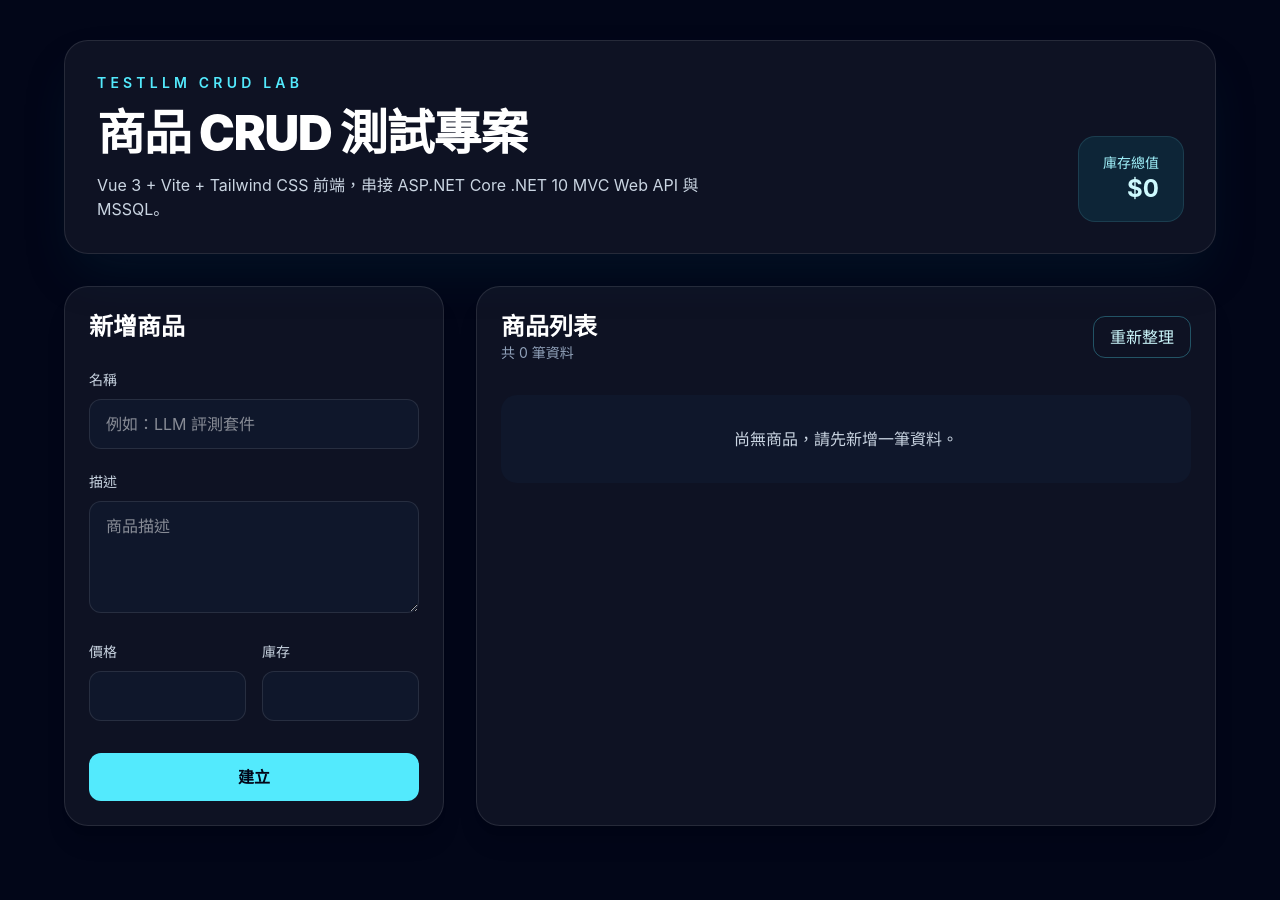
Scenario: App › creates a product with trimmed values and refreshes the list
Type "  新商品  " into the field with placeholder "例如：LLM 評測套件". click: {"x": 254, "y": 424}
box: [89,399,419,449]
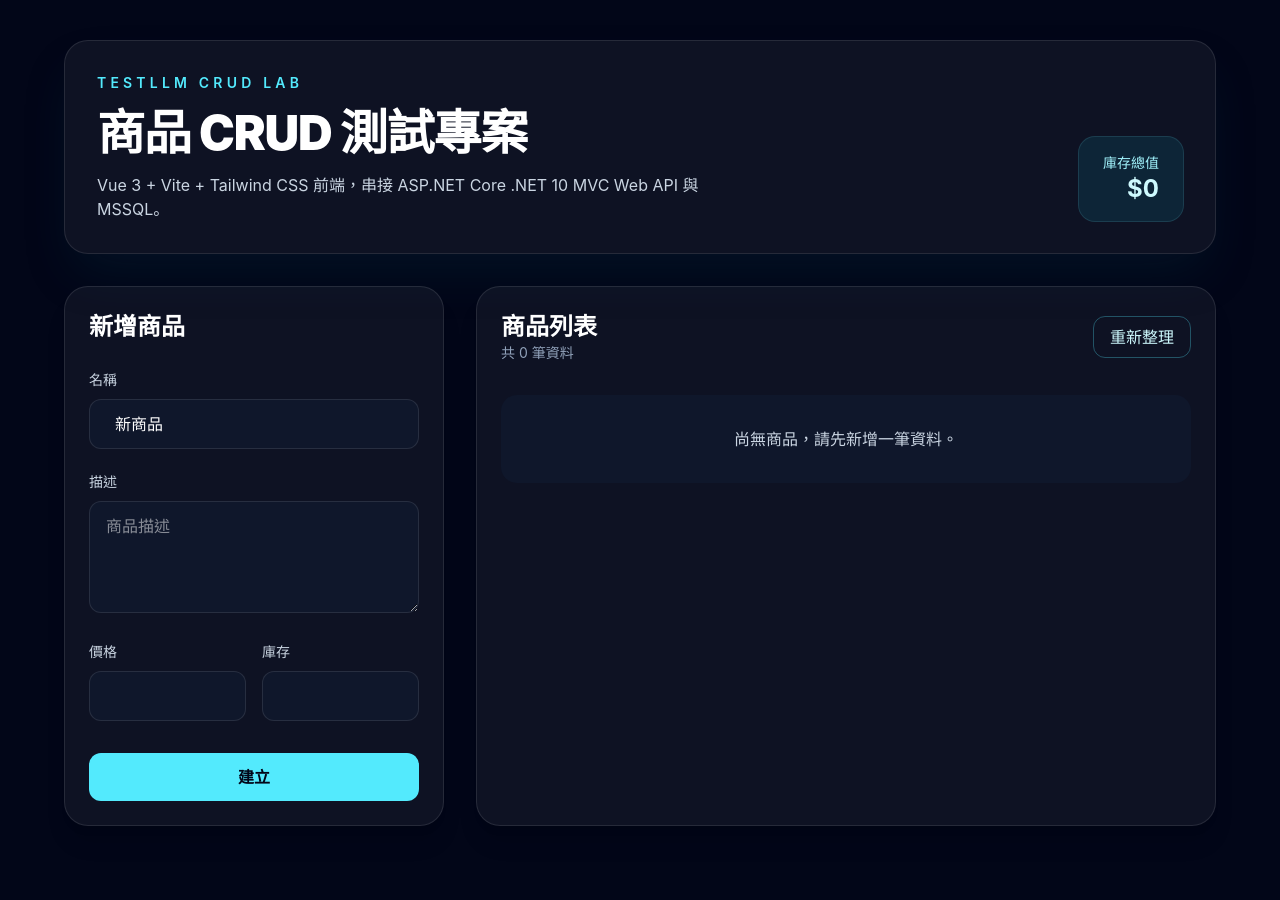
Type "  建立成功  " into the text box labelled "描述". click: {"x": 254, "y": 557}
box: [89,501,419,613]
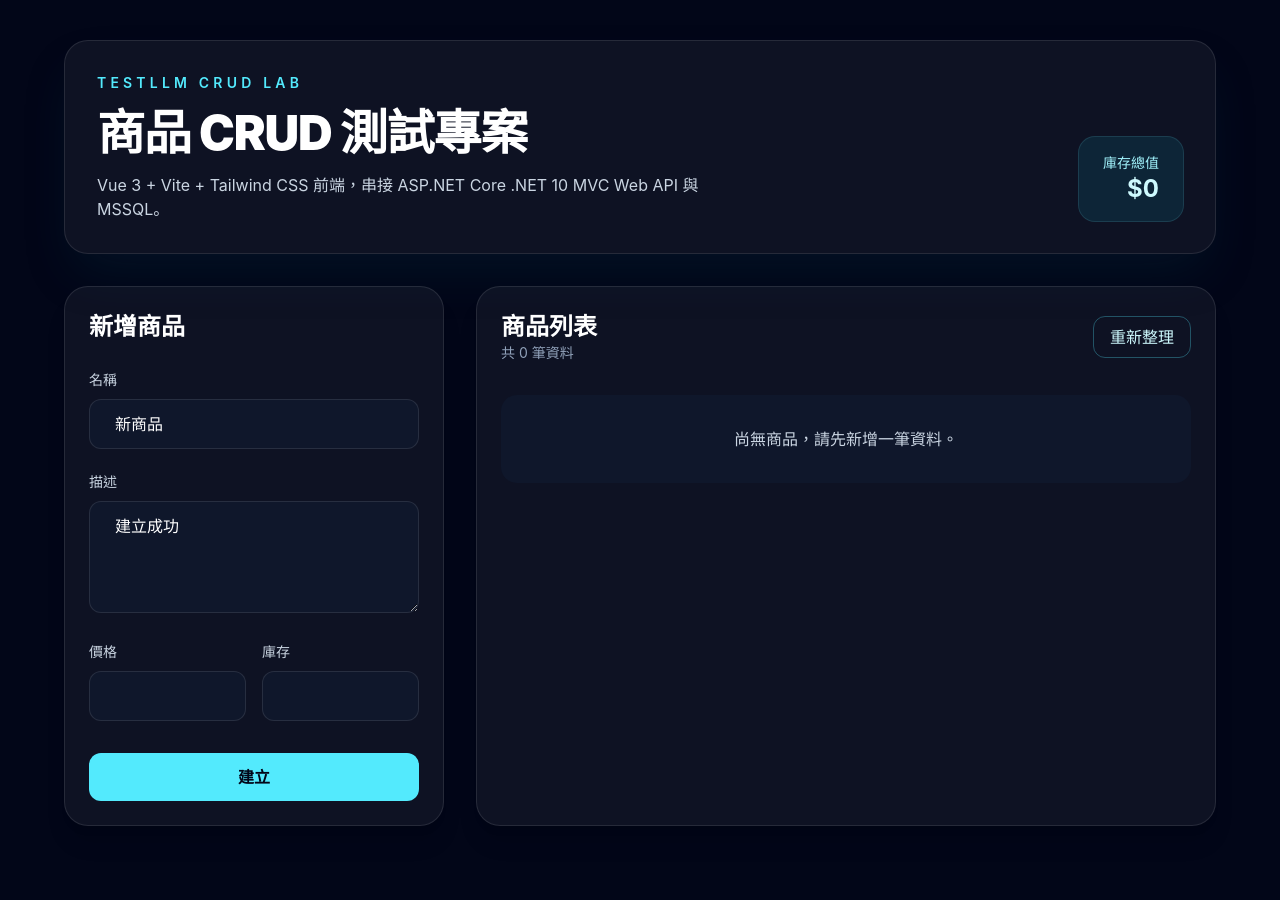
Type "900" into the number field labelled "價格". click: {"x": 168, "y": 696}
box: [89,671,246,721]
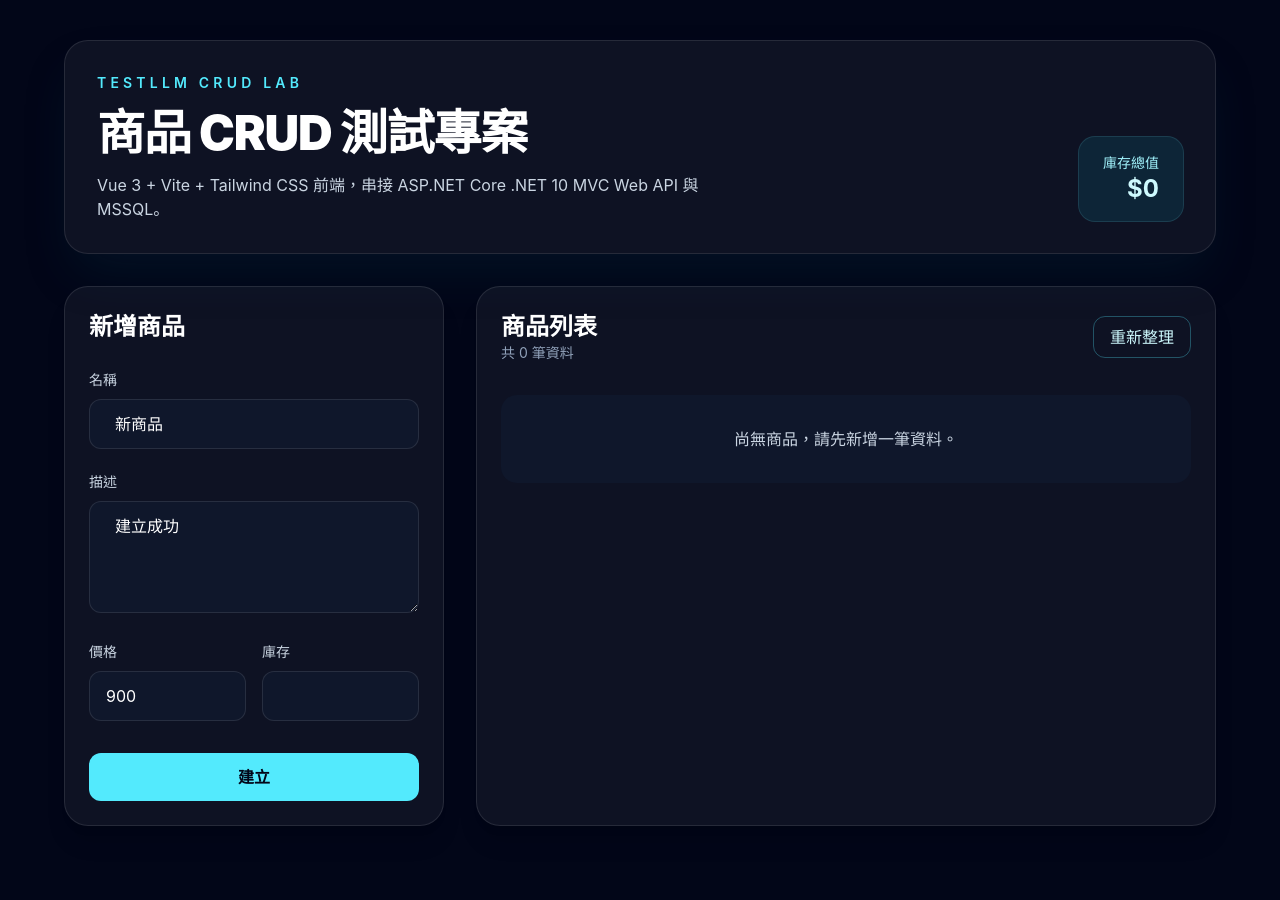
Type "4" into the number field labelled "庫存". click: {"x": 340, "y": 696}
box: [262,671,419,721]
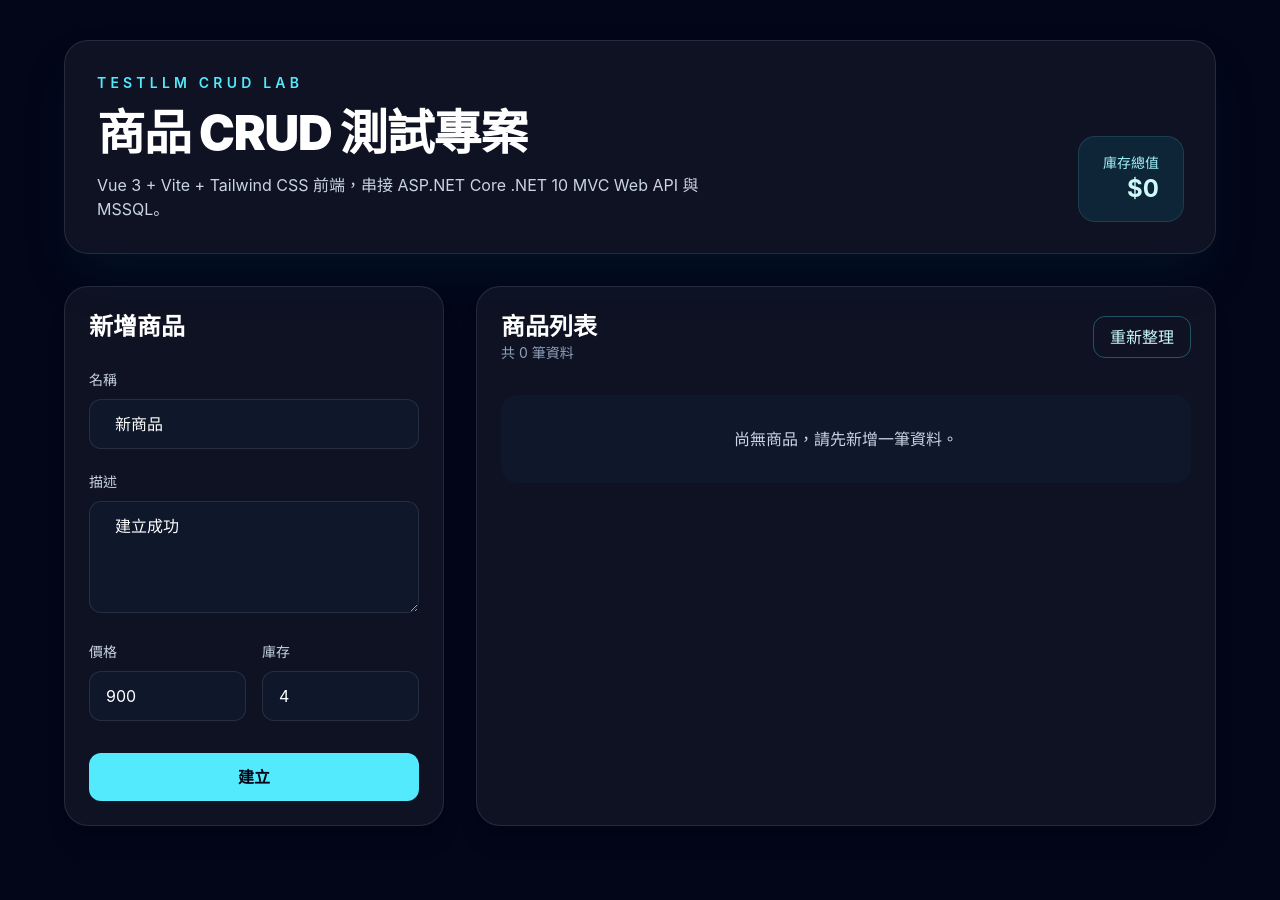
Submit the form, box [64,286,444,826]
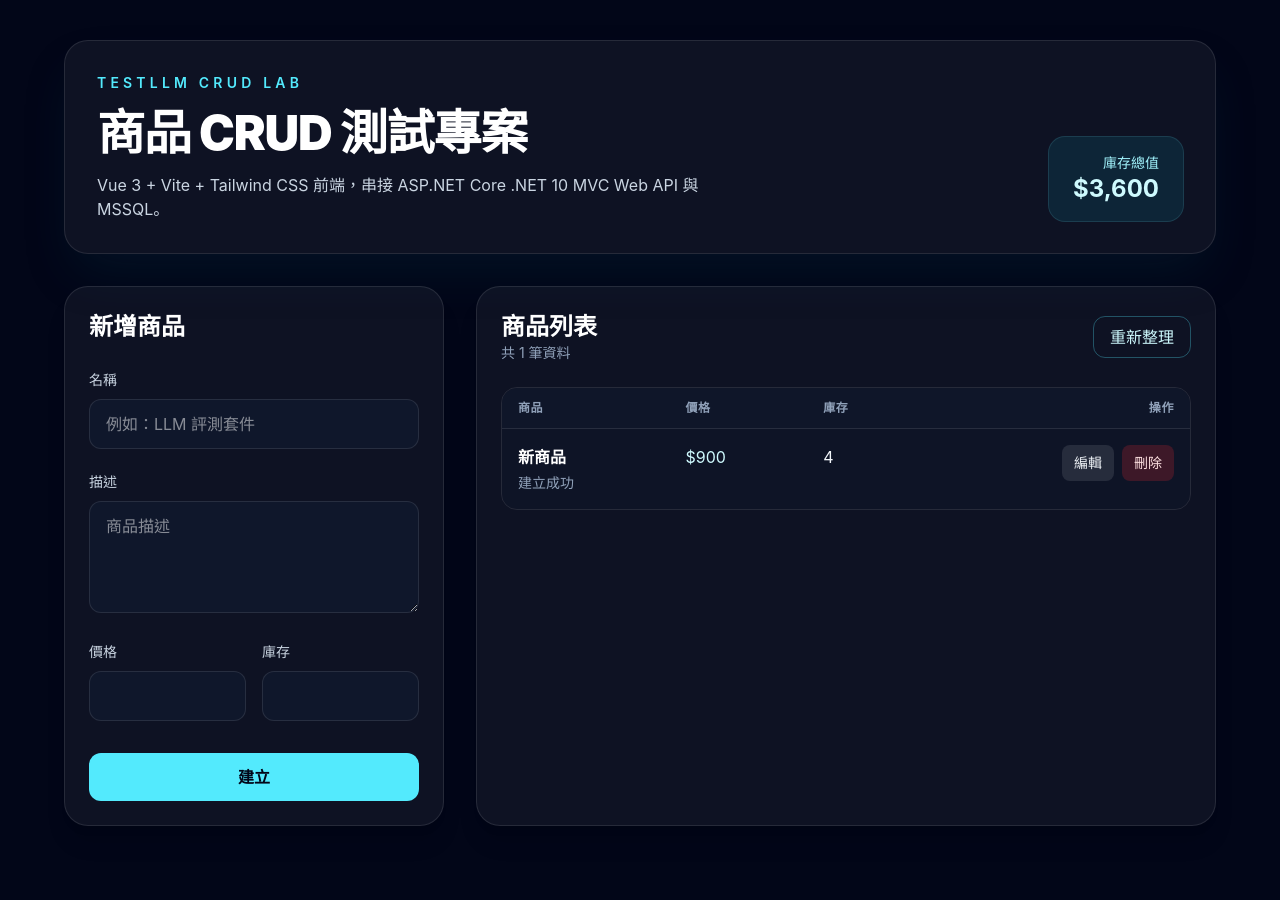
Result: the field with placeholder "例如：LLM 評測套件" is empty at [89,399,419,449]
Result: the text "新商品" is shown at [518,447,566,467]
